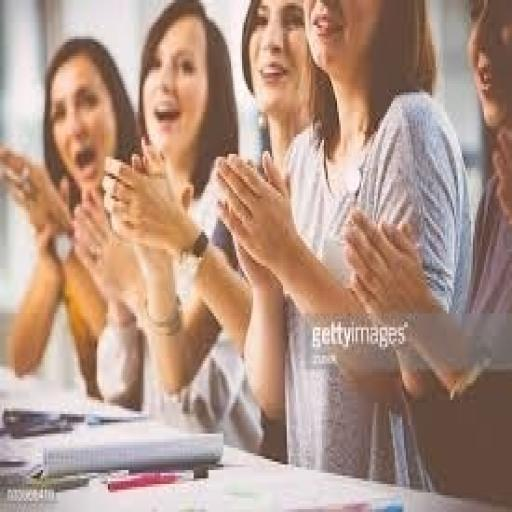clapping: (214, 0, 473, 492), (101, 16, 328, 468), (0, 33, 143, 408)
